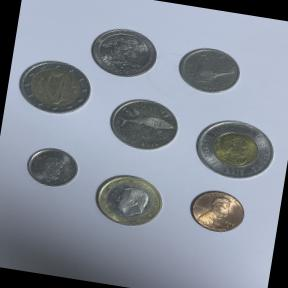1 Euro-B: (84, 164, 174, 237)
2 Euro-B: (12, 53, 96, 122)
Canada-10cent-B: (20, 140, 86, 196)
Canada-2Dollar-B: (181, 109, 284, 195)
Croatia-2Kune-B: (100, 87, 186, 160)
US-1cent-B: (180, 180, 254, 240)
US-25cent-B: (84, 21, 162, 83)
